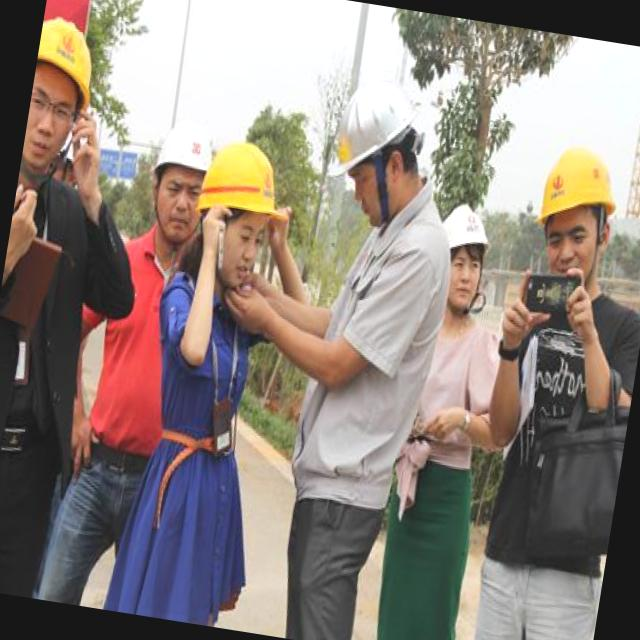helmet: (318, 73, 424, 212), (192, 130, 292, 238), (536, 142, 628, 238), (28, 20, 109, 129), (143, 106, 220, 177), (436, 193, 494, 269)
no-vest: (281, 202, 446, 526), (484, 272, 635, 538), (0, 158, 114, 461), (84, 259, 194, 461), (398, 300, 506, 484), (156, 280, 264, 460)
